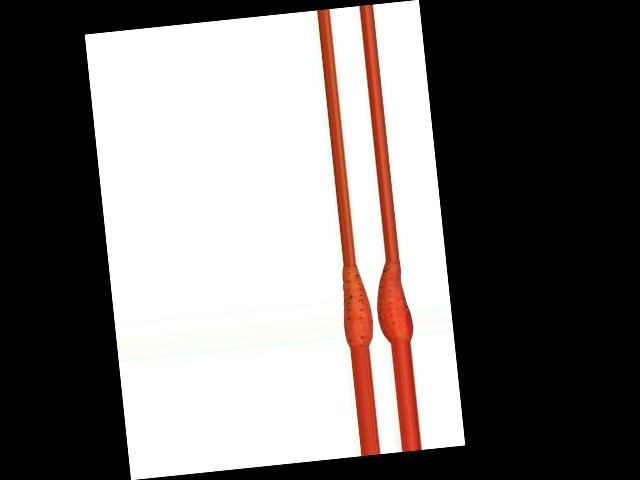sweet_potato: (339, 265, 375, 348)
